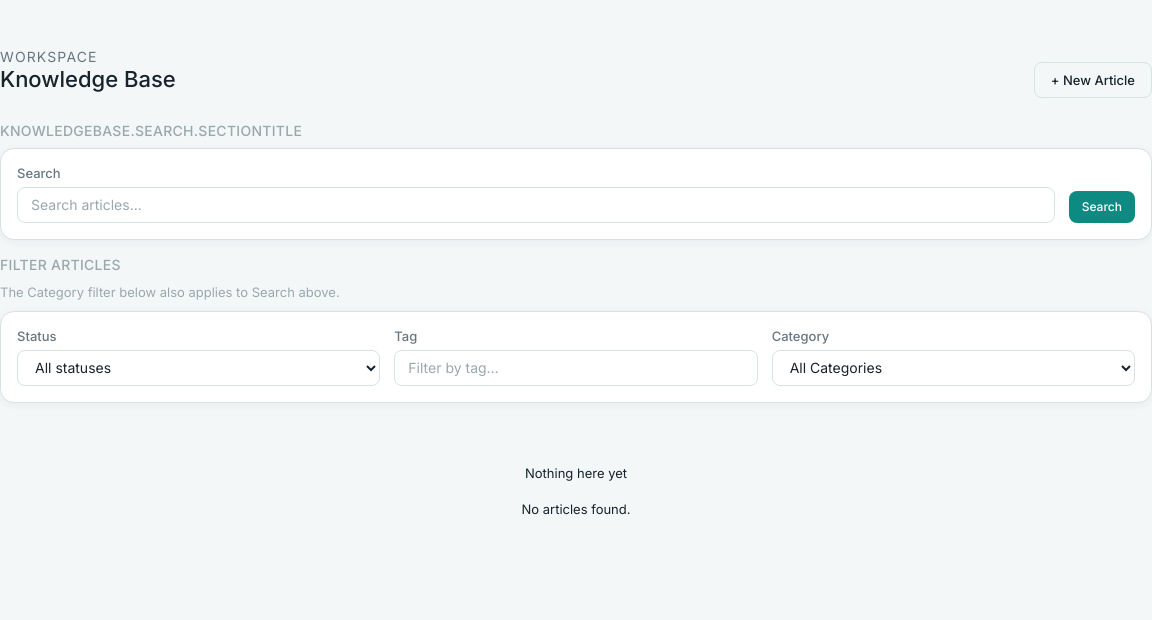
Test: KnowledgeBaseManagementView › shows a validation error for an invalid slug
Step 1. Click the button "+ New Article" → (1093, 80), box [1034,62,1151,98]
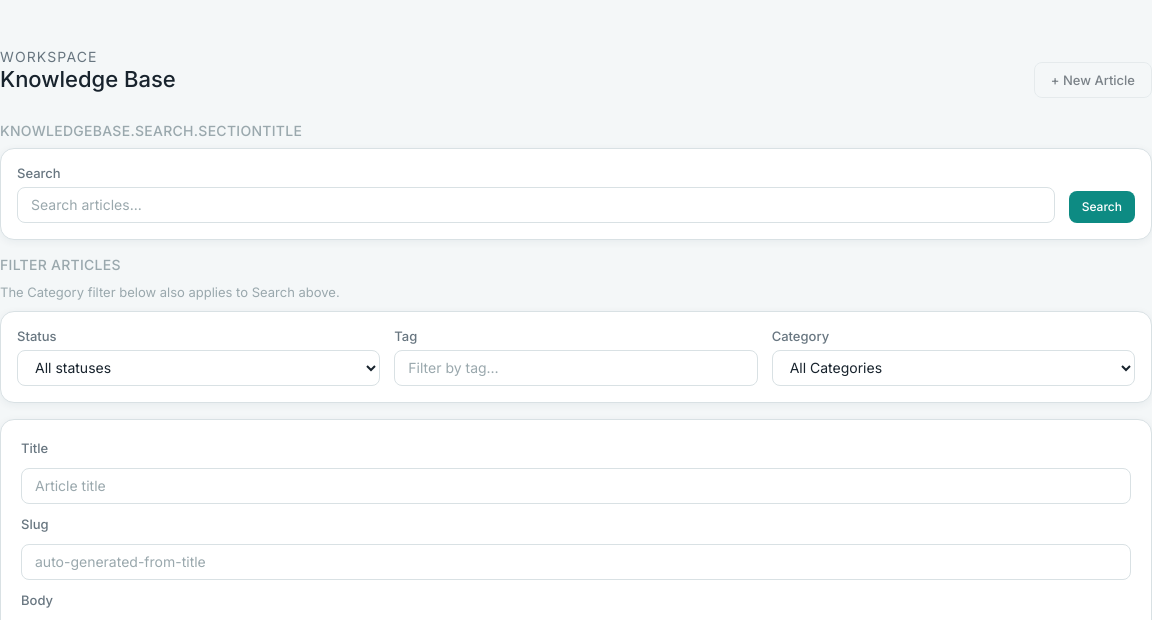
Step 2. Type "Some Title" into the field with id "kb-title" → (576, 486), box [21,468,1131,504]
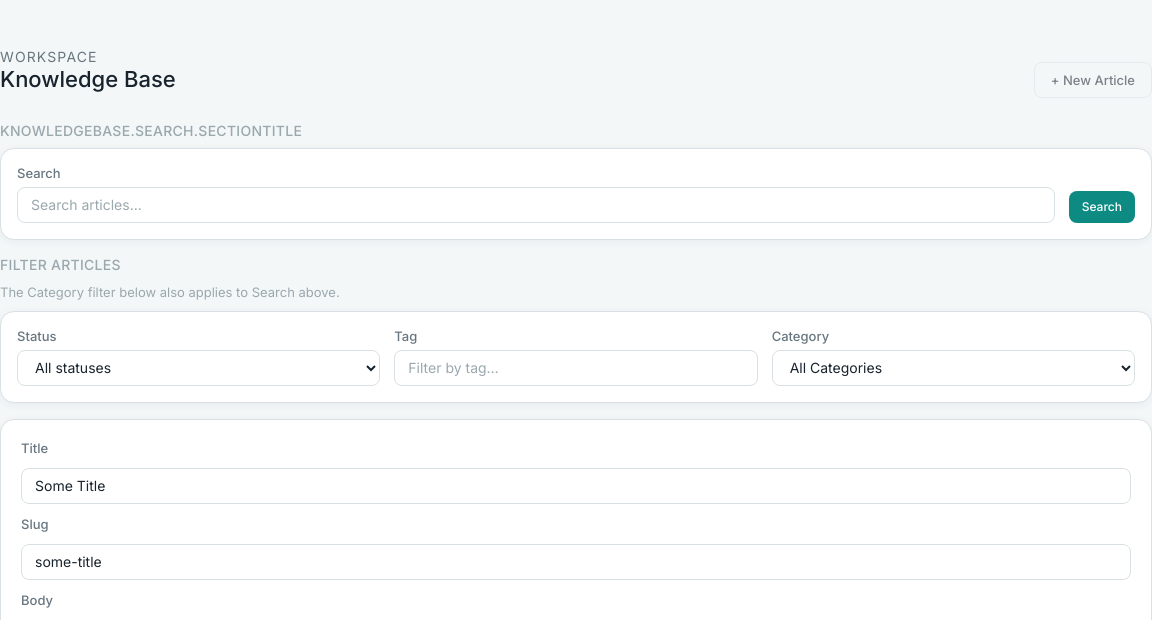
Step 3. Replace the text in the field with id "kb-slug" with "Not_Valid!" → (576, 562), box [21,544,1131,580]
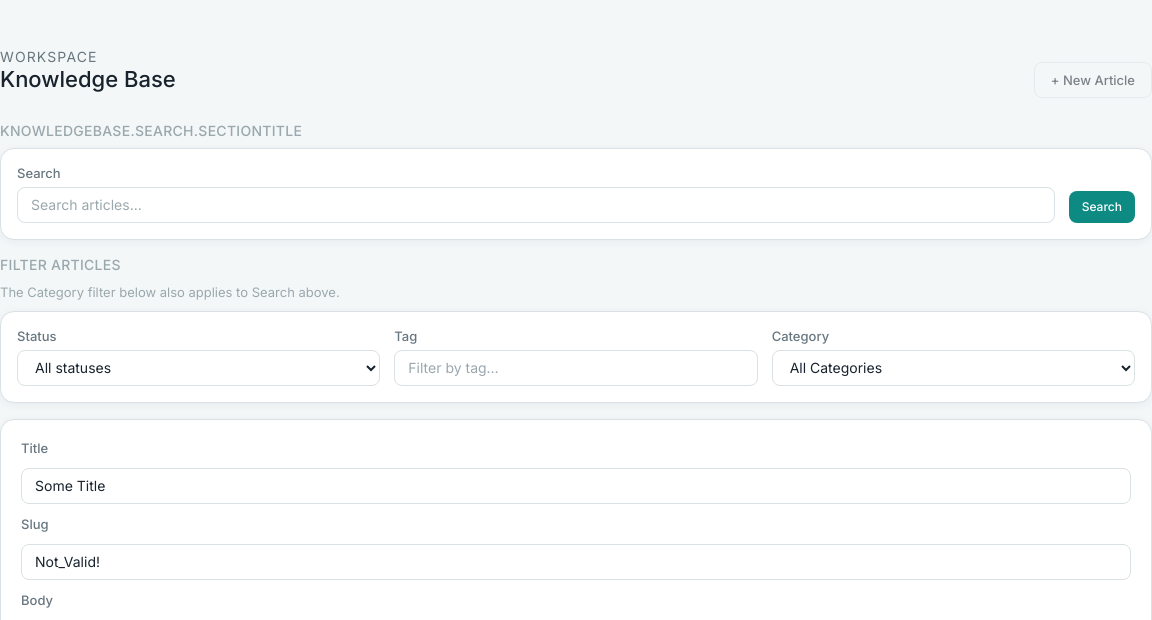
Step 4. Leave the field with id "kb-slug", box [21,544,1131,580]
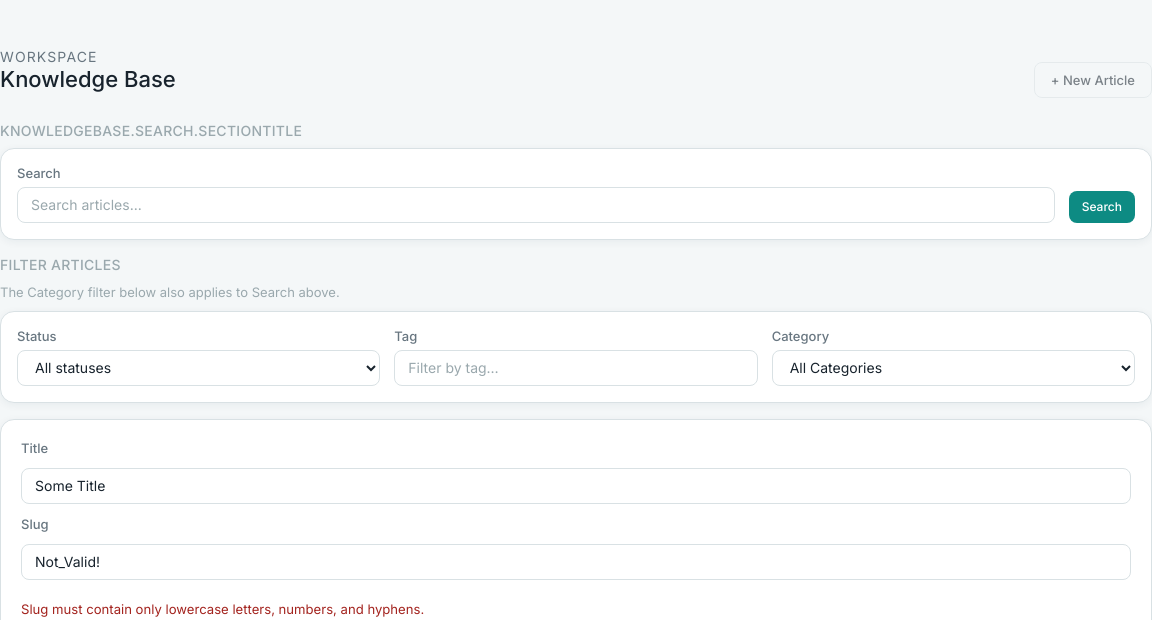
Expected: the text "Slug must contain only lowercase letters, numbers, and hyphens." is shown, [21,601,424,617]
